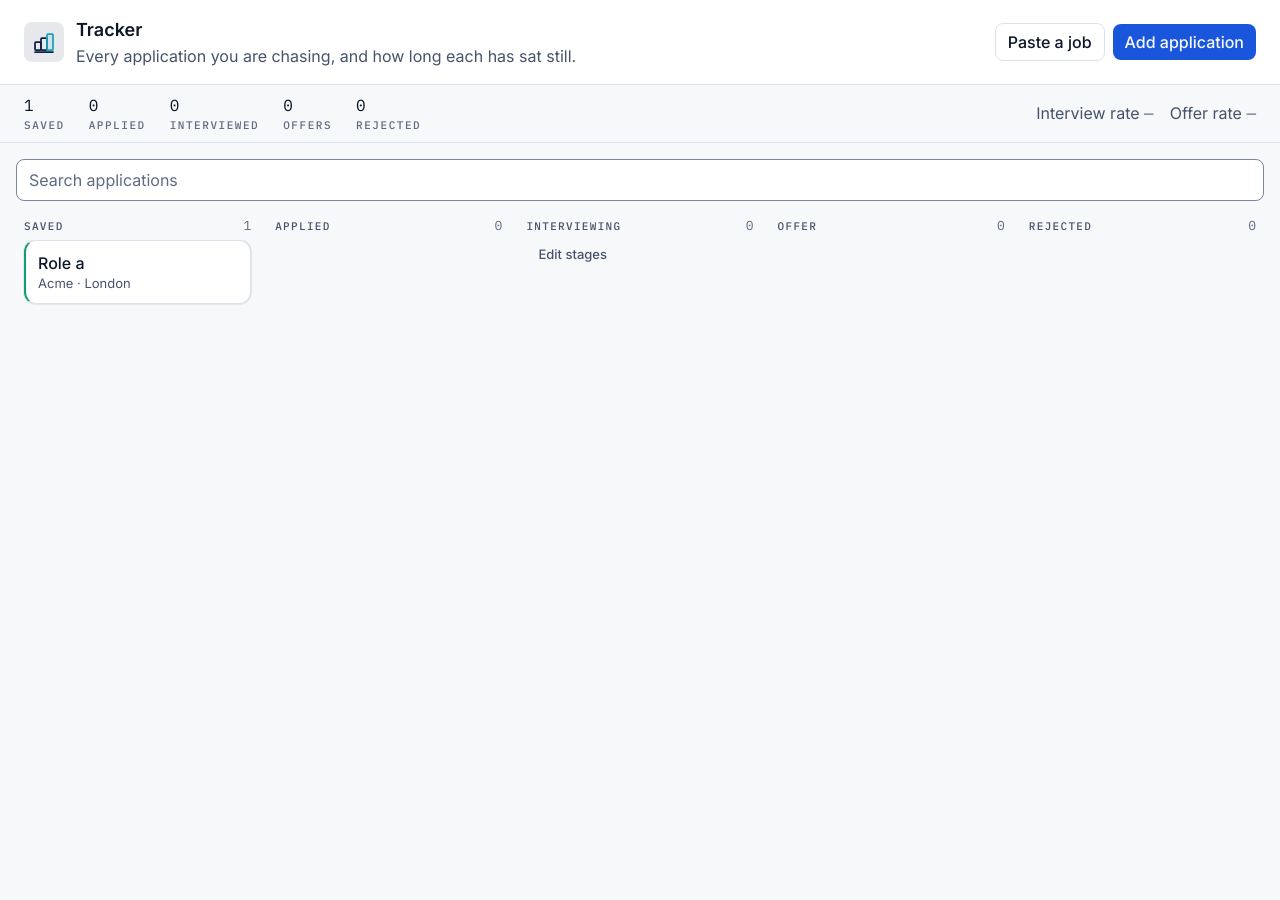
Test: one blue button › never leaves two primary buttons ENABLED at once, even mid-flow
Expected: the element with test id "tracker-column-saved" is shown, [16,208,259,312]
Click the button with test id "tracker-add".
click(1184, 42)  # box [1112,24,1256,60]
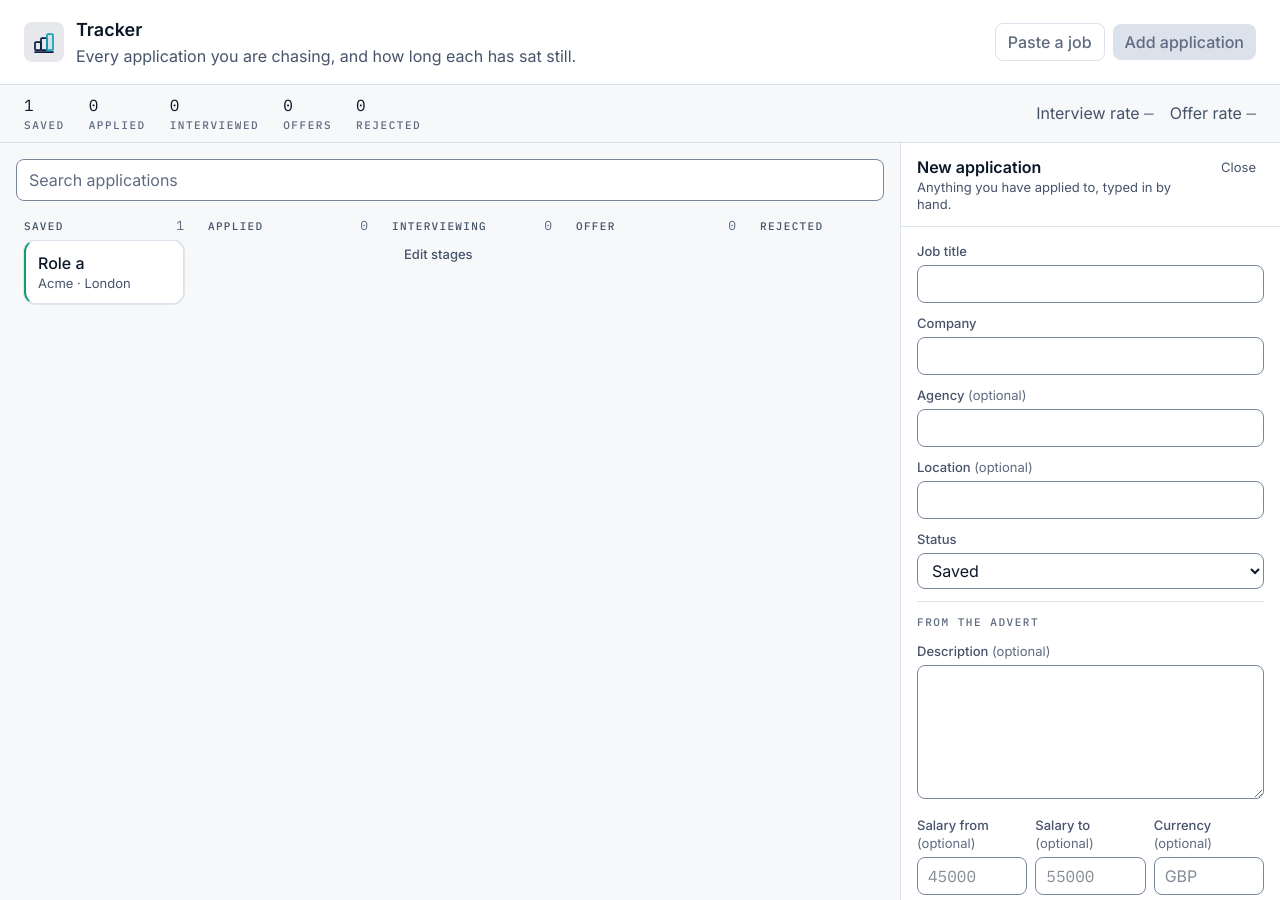
Result: the button with test id "tracker-add" is disabled at [1112,24,1256,60]
